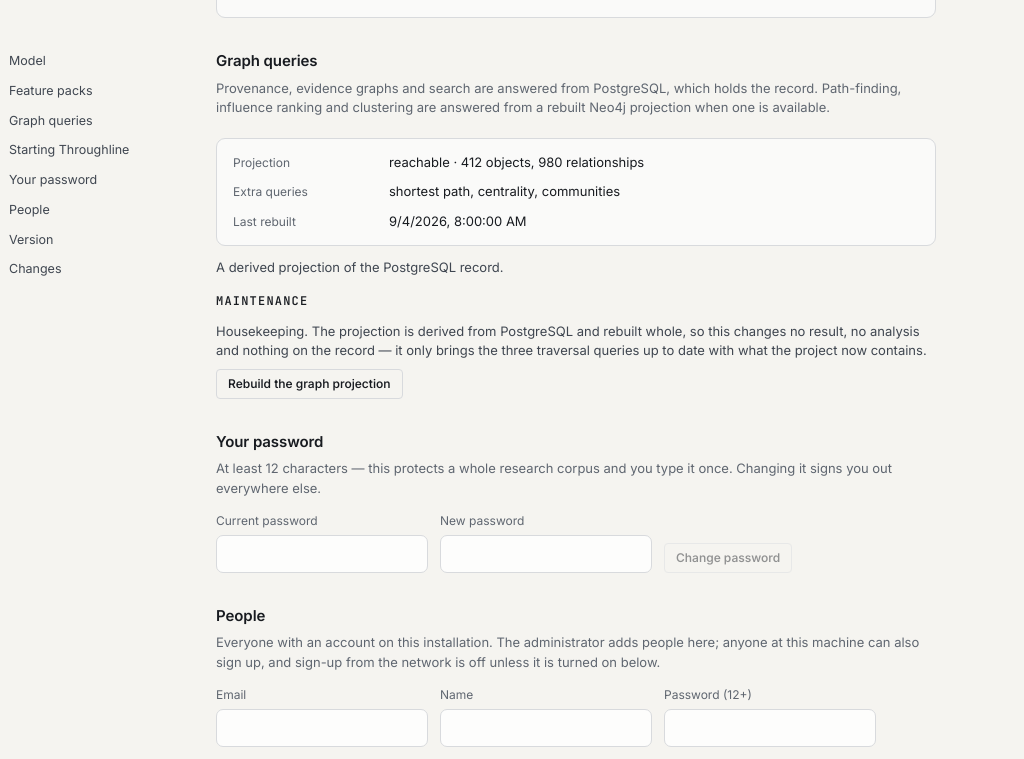
Test: the maintenance action beside the projection readout › reports what was projected, in the server's numbers
(page scrolled)
Click the button "Rebuild the graph projection": (309, 384) [216,369,402,399]
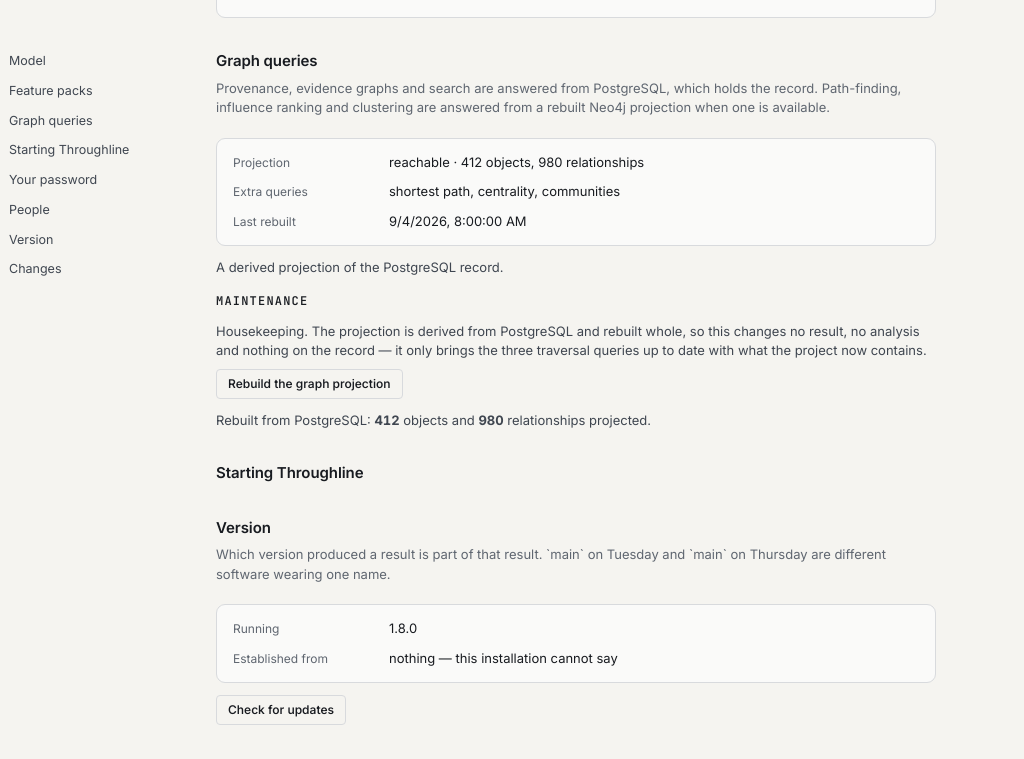
expect the message shows "412": met, box [374,412,400,428]
expect the message shows "980": met, box [478,412,504,428]
